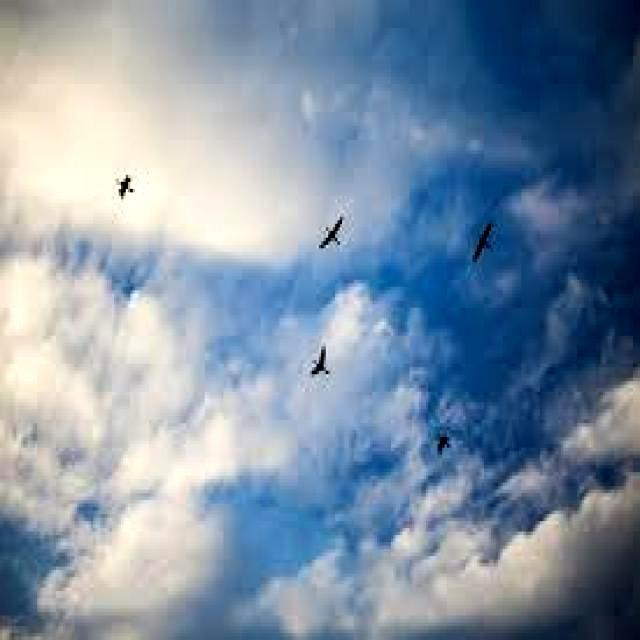bird: (306, 211, 355, 254), (304, 338, 337, 384), (470, 213, 496, 266), (105, 166, 141, 198), (432, 424, 461, 459)
